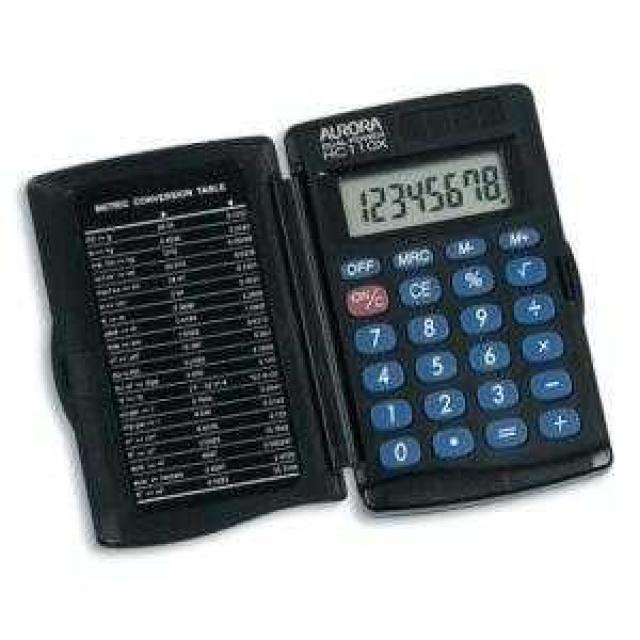Calculator: (282, 81, 614, 514)
